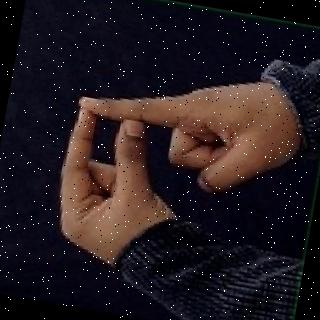P: (42, 55, 304, 288)
